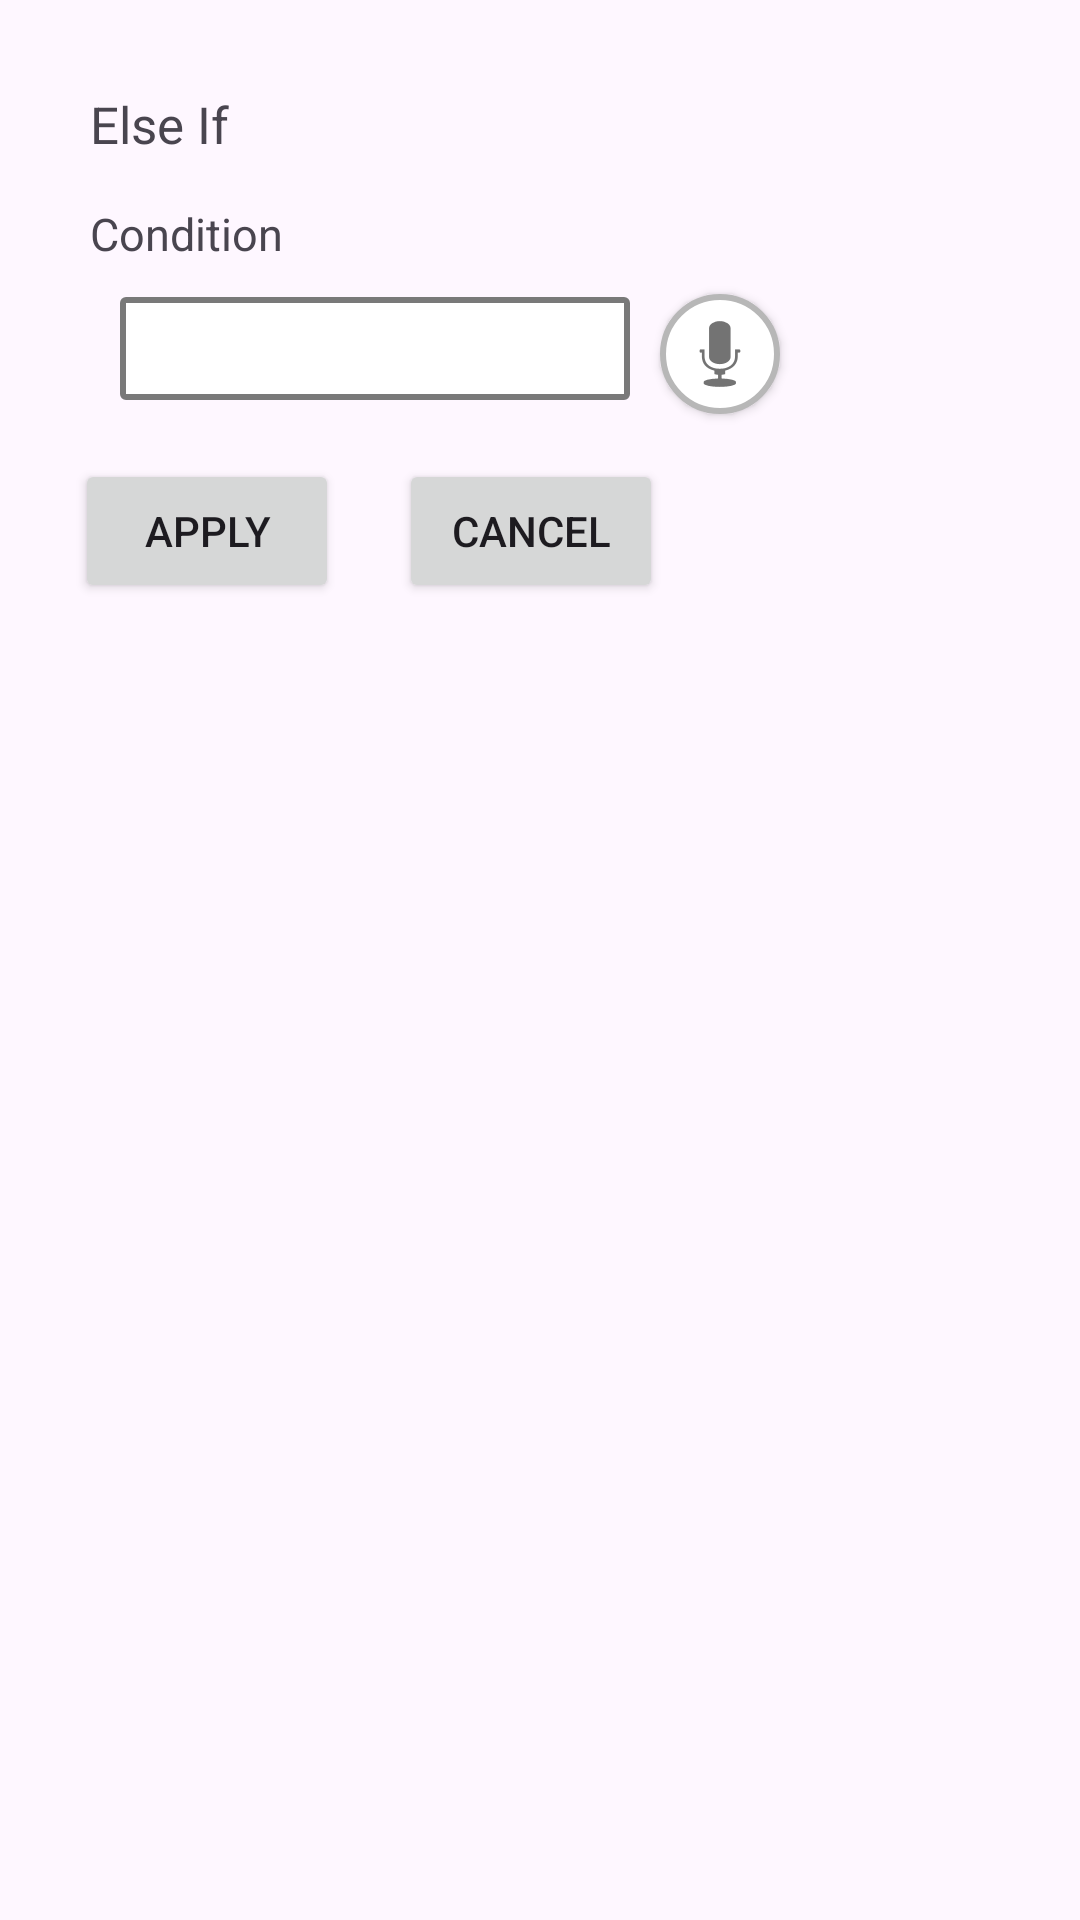

Icons on this 1080px×1920px Android screen, each with the point to tap as (x,y):
microphone: (720,354)
